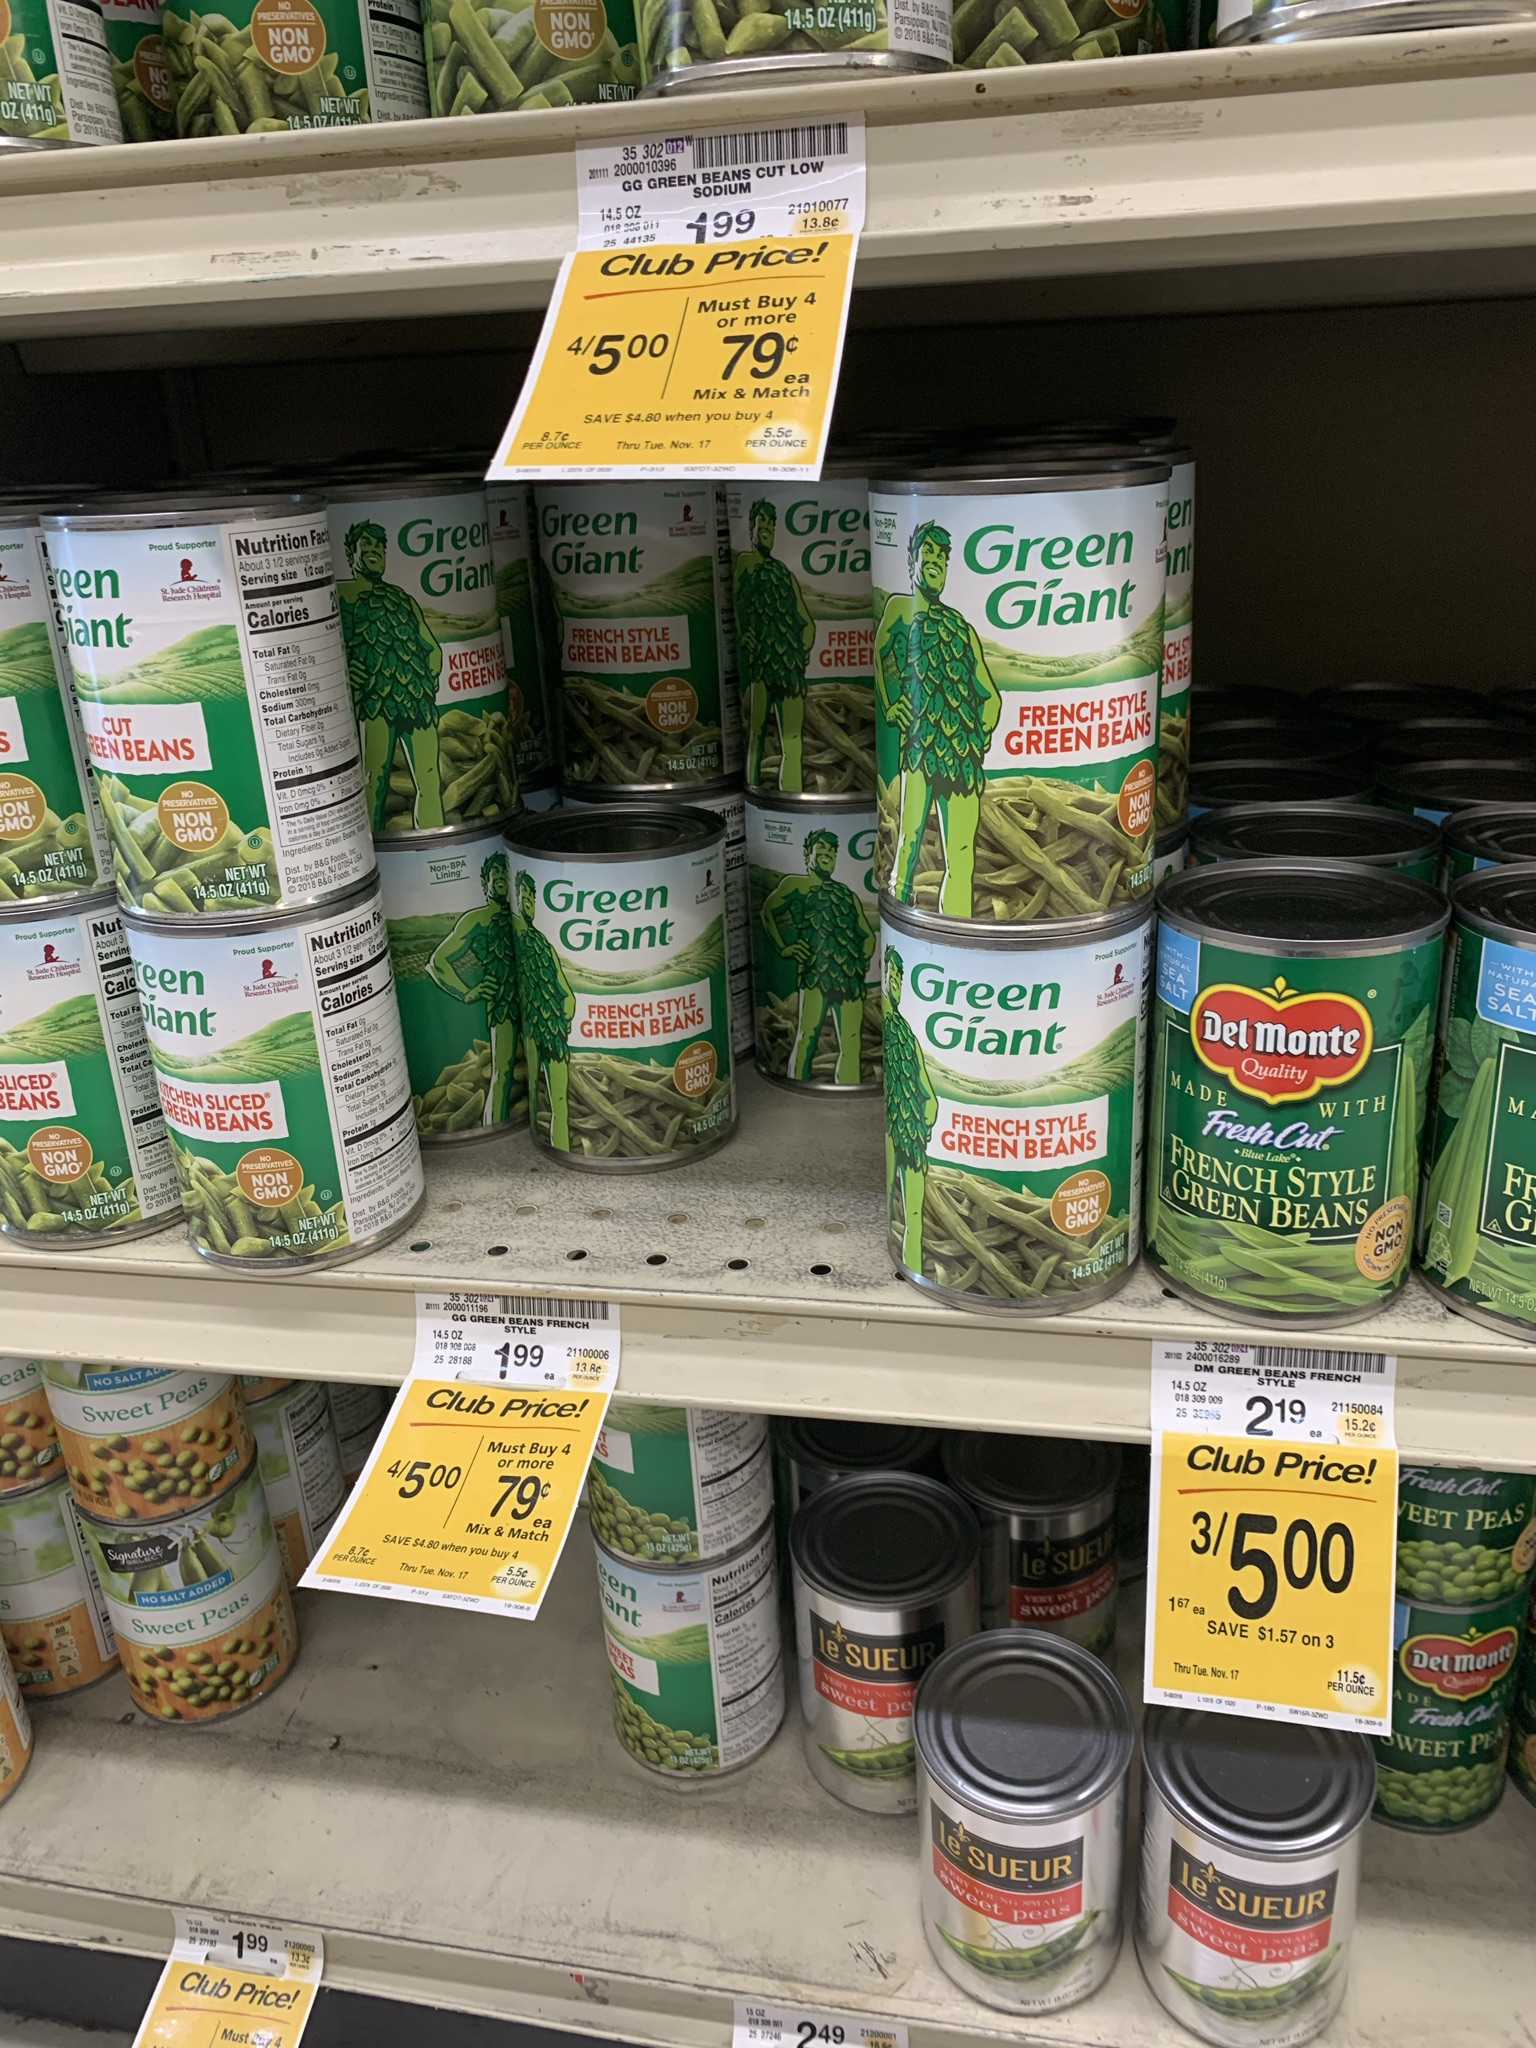can: (874, 481, 1167, 926), (1154, 927, 1438, 1329), (886, 927, 1144, 1322), (77, 522, 331, 887), (171, 947, 378, 1251), (528, 843, 726, 1143), (550, 508, 707, 787), (936, 1758, 1121, 1988), (1154, 1790, 1342, 2001), (744, 513, 866, 797), (760, 827, 865, 1085), (615, 1579, 749, 1771), (111, 1538, 266, 1701), (816, 1572, 907, 1796), (1400, 1625, 1505, 1817)
